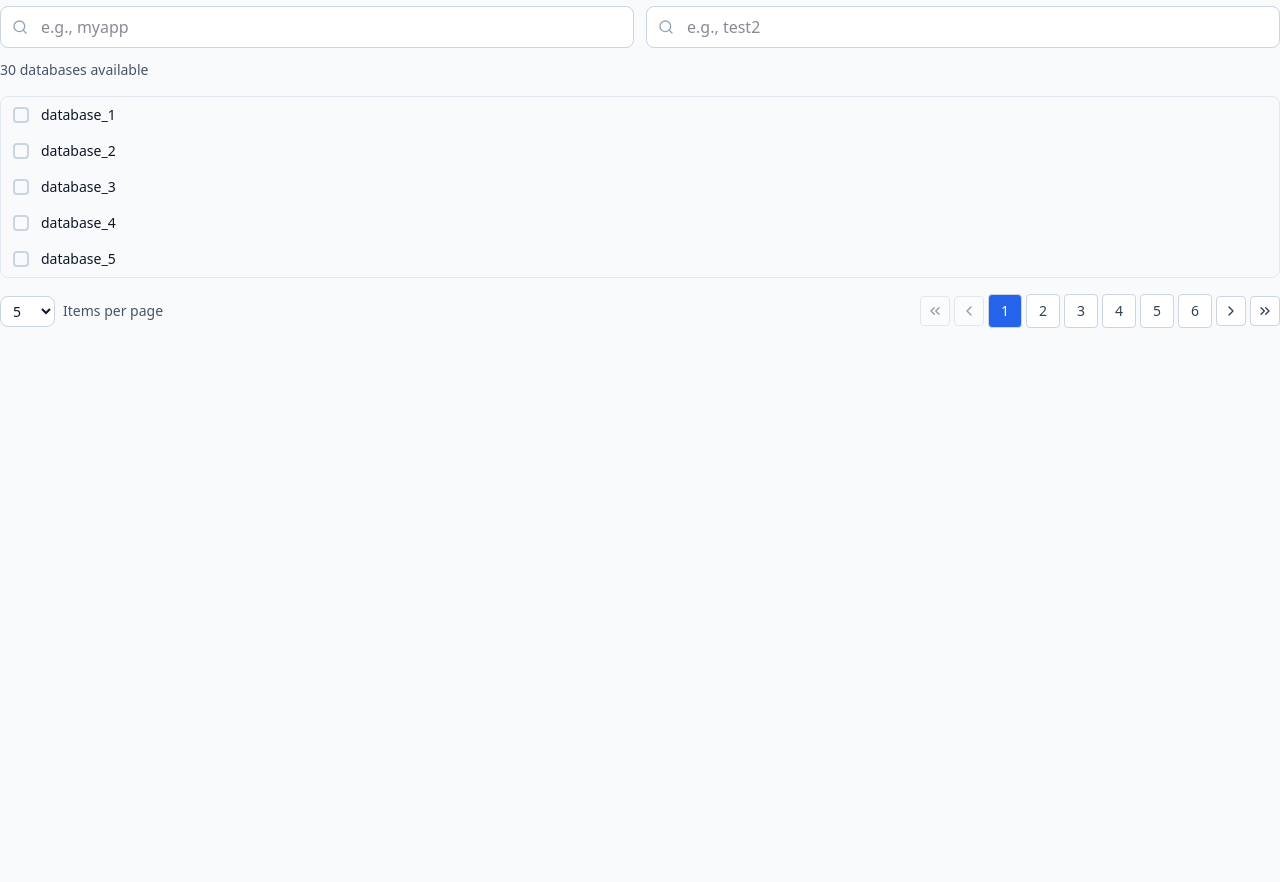
Test case: DatabaseSelector - Pagination › should show all items when "All" is selected
Expected: the text "database_1" is shown, [41,105,116,125]
Select "All" in the dropdown showing "5". click: (28, 311)
box: [0,296,55,326]
(page scrolled)
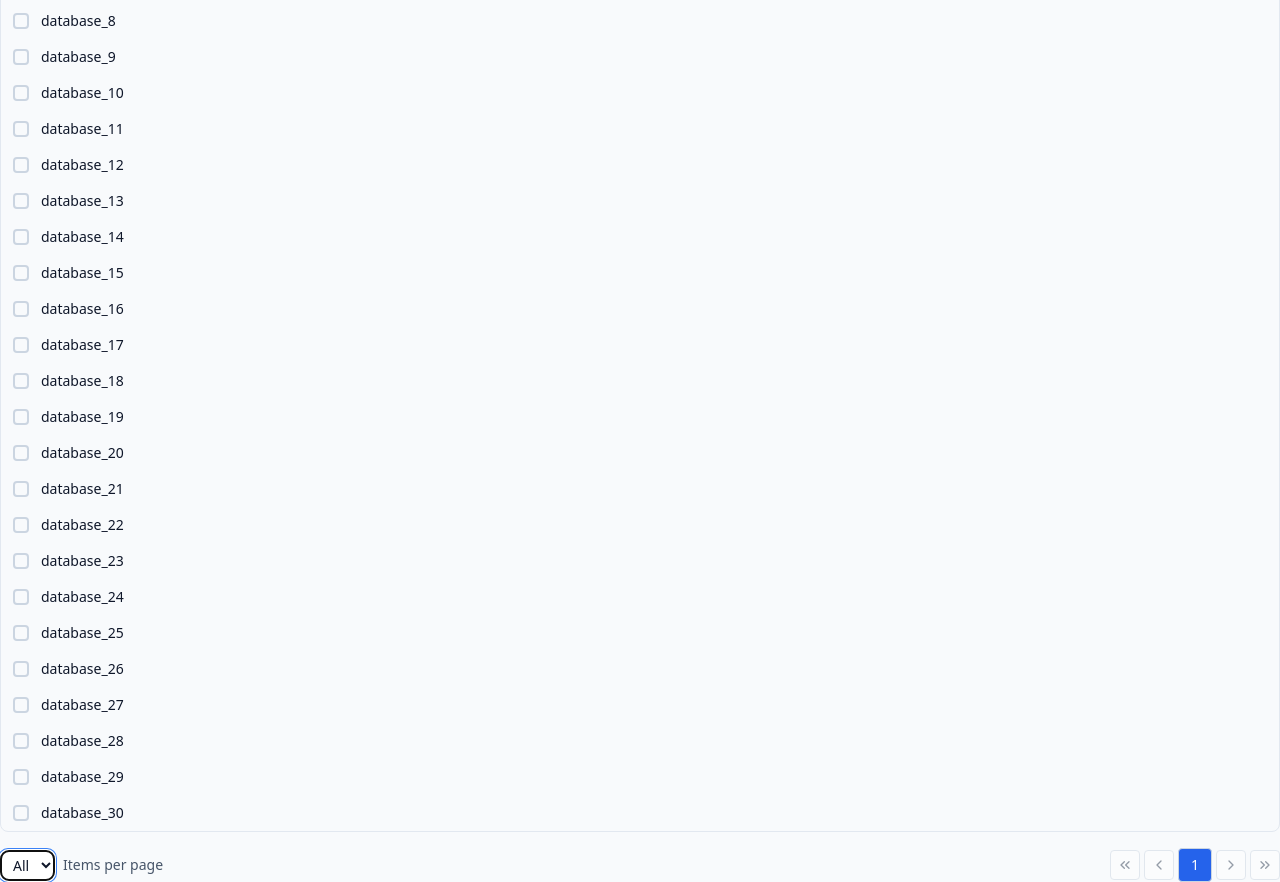
Expected: the text "database_30" is shown, [41,803,124,823]
